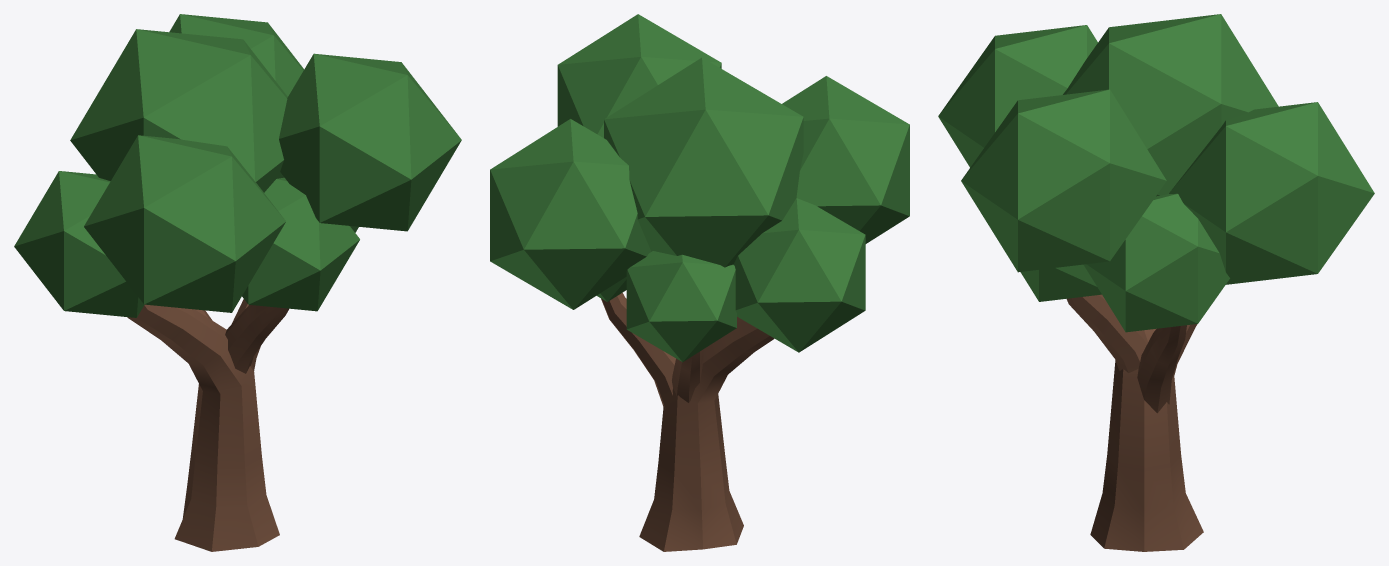
Rendered from Tree_Oak1.fbx.
3 renders of one model, left to right at view 1: azimuth 30°, elevation 25°; view 2: azimuth 150°, elevation 25°; view 3: azimuth 270°, elevation 25°, orthographic. The views are drawn at different scales.
Visible parts, largest first — view 1: oaktreetall; view 2: oaktreetall; view 3: oaktreetall.
Part boxes in pixels (<box>): oaktreetall: <box>14,14,461,551</box>; oaktreetall: <box>490,14,909,551</box>; oaktreetall: <box>938,14,1374,551</box>.
Size of the model in its own units: 849 by 1098 by 883.
